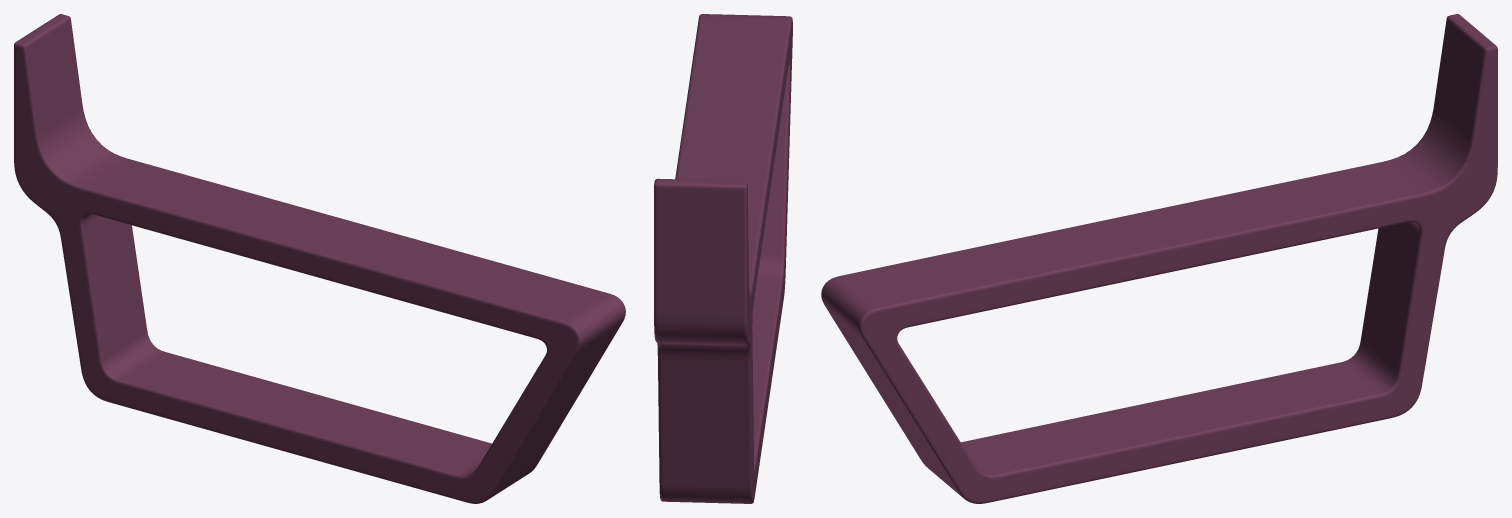
3 views of the same model, side by side, from view 1: azimuth 30°, elevation 25°; view 2: azimuth 150°, elevation 25°; view 3: azimuth 270°, elevation 25° (orthographic). The views are drawn at different scales.
Visible parts, largest first — view 1: Geo2; view 2: Geo2; view 3: Geo2.
Boxes of the visible parts, x1,y1,x2,y2 form: Geo2: (14,14,625,503); Geo2: (654,14,792,503); Geo2: (821,14,1497,503).
Bounding box in the file's own units: 35.24 × 34.39 × 60.22.
